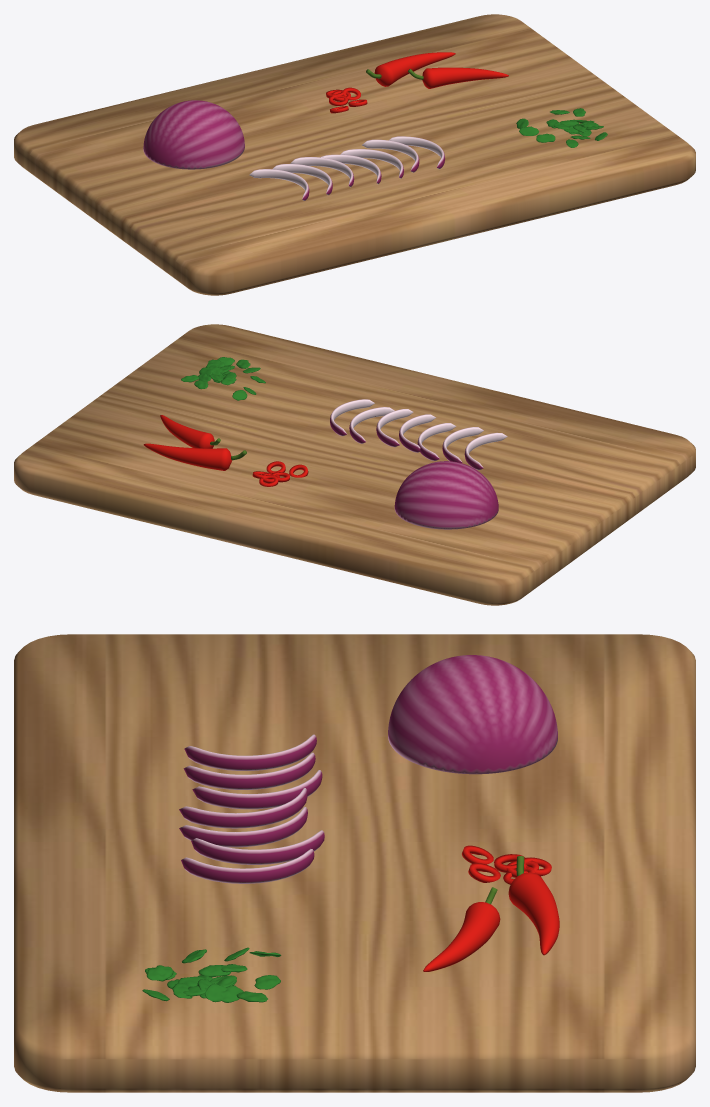
Rendered from paso-2.glb.
3 renders of one model, top to bottom at view 1: azimuth 30°, elevation 25°; view 2: azimuth 150°, elevation 25°; view 3: azimuth 270°, elevation 25°, orthographic. The views are drawn at different scales.
Parts seen in each view (by area): view 1: paso-2-0, paso-2-1, paso-2-9, paso-2-11, paso-2-2, paso-2-7, paso-2-4, paso-2-6, paso-2-3, paso-2-8, paso-2-5; view 2: paso-2-0, paso-2-1, paso-2-9, paso-2-11, paso-2-8, paso-2-2, paso-2-7, paso-2-6, paso-2-5, paso-2-4, paso-2-3; view 3: paso-2-0, paso-2-1, paso-2-9, paso-2-11, paso-2-8, paso-2-2, paso-2-3, paso-2-7, paso-2-5, paso-2-6, paso-2-4.
Boxes of the visible parts, box(x1,y1,x2,y2) form: paso-2-0: box(14, 14, 695, 295); paso-2-1: box(143, 100, 244, 169); paso-2-9: box(374, 52, 455, 86); paso-2-11: box(422, 67, 508, 88); paso-2-2: box(249, 169, 309, 200); paso-2-7: box(362, 139, 419, 172); paso-2-4: box(290, 157, 354, 187); paso-2-6: box(340, 149, 403, 178); paso-2-3: box(272, 164, 332, 195); paso-2-8: box(389, 136, 444, 169); paso-2-5: box(321, 154, 381, 184); paso-2-0: box(14, 324, 695, 605); paso-2-1: box(394, 461, 498, 529); paso-2-9: box(143, 443, 232, 470); paso-2-11: box(160, 415, 214, 448); paso-2-8: box(330, 399, 374, 436); paso-2-2: box(464, 432, 507, 470); paso-2-7: box(349, 407, 394, 443); paso-2-6: box(376, 409, 413, 447); paso-2-5: box(399, 414, 436, 452); paso-2-4: box(417, 423, 456, 460); paso-2-3: box(442, 427, 483, 462); paso-2-0: box(14, 634, 695, 1092); paso-2-1: box(388, 655, 557, 774); paso-2-9: box(508, 872, 559, 955); paso-2-11: box(423, 902, 500, 971); paso-2-8: box(181, 849, 314, 883); paso-2-2: box(184, 734, 316, 770); paso-2-3: box(183, 752, 315, 789); paso-2-7: box(191, 830, 324, 864); paso-2-5: box(179, 788, 307, 828); paso-2-6: box(179, 806, 307, 847); paso-2-4: box(192, 770, 322, 809).
Size of the model in its own units: 0.38 by 0.0486 by 0.26.
5 materials, 1 textured.
